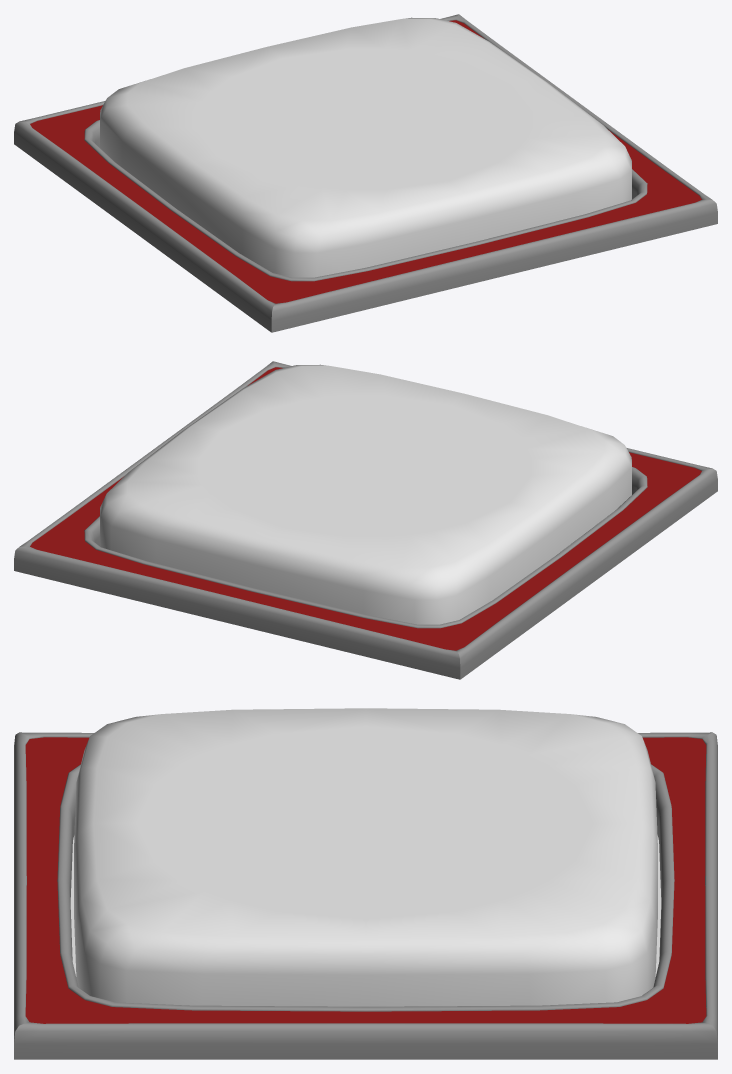
File: FloorTrigger.fbx
The picture shows the model from 3 angles, top to bottom: view 1: azimuth 30°, elevation 25°; view 2: azimuth 150°, elevation 25°; view 3: azimuth 270°, elevation 25°; orthographic projection. The views are drawn at different scales.
Parts seen in each view (by area): view 1: Trigger, Frame; view 2: Trigger, Frame; view 3: Trigger, Frame, Rectangle001.
Boxes of the visible parts, x1=… form: Trigger: x1=100, y1=17, x2=631, y2=277; Frame: x1=14, y1=14, x2=717, y2=332; Trigger: x1=100, y1=364, x2=631, y2=624; Frame: x1=14, y1=361, x2=717, y2=679; Trigger: x1=74, y1=708, x2=657, y2=1006; Frame: x1=14, y1=732, x2=717, y2=1059; Rectangle001: x1=70, y1=836, x2=661, y2=976.
Size of the model in its own units: 39.37 by 5.4 by 39.37.
